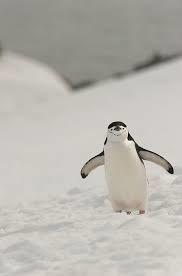chinstrap: (62, 95, 179, 236)
